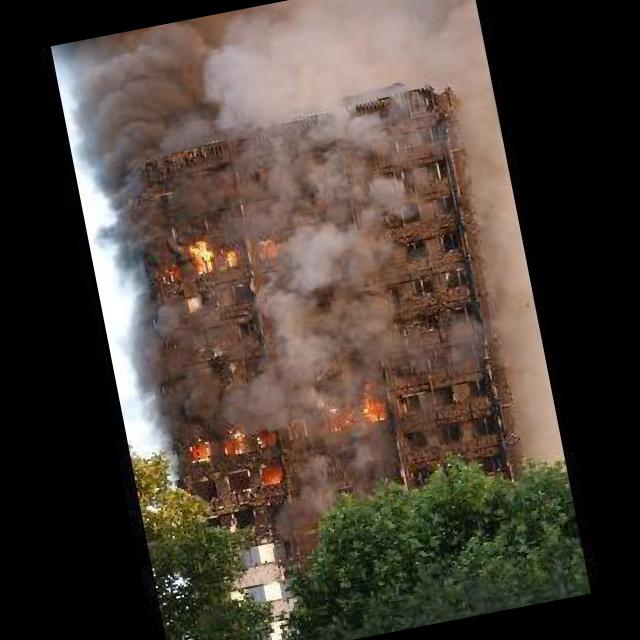Fire: (147, 232, 245, 287), (182, 421, 254, 468), (354, 380, 391, 426)
Smoke: (215, 0, 542, 409), (64, 17, 248, 255), (130, 281, 286, 444), (272, 432, 419, 546)
